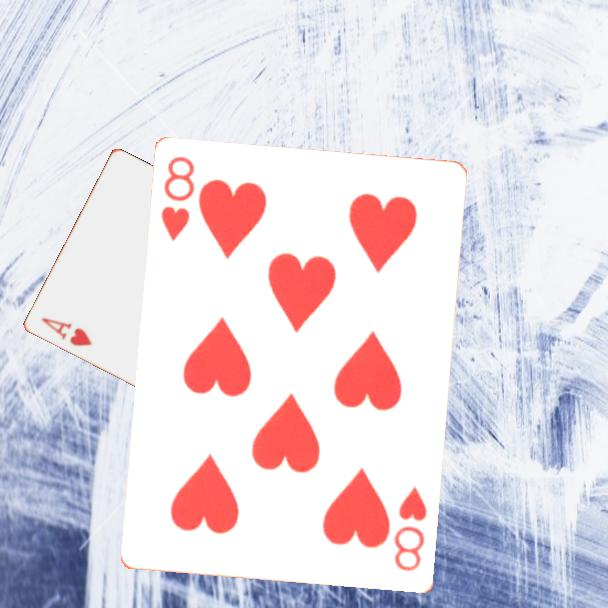h01: (37, 314, 95, 349)
h08: (158, 153, 198, 245), (391, 483, 430, 575)
